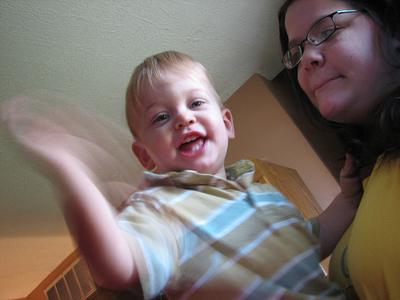person: (6, 51, 364, 300)
